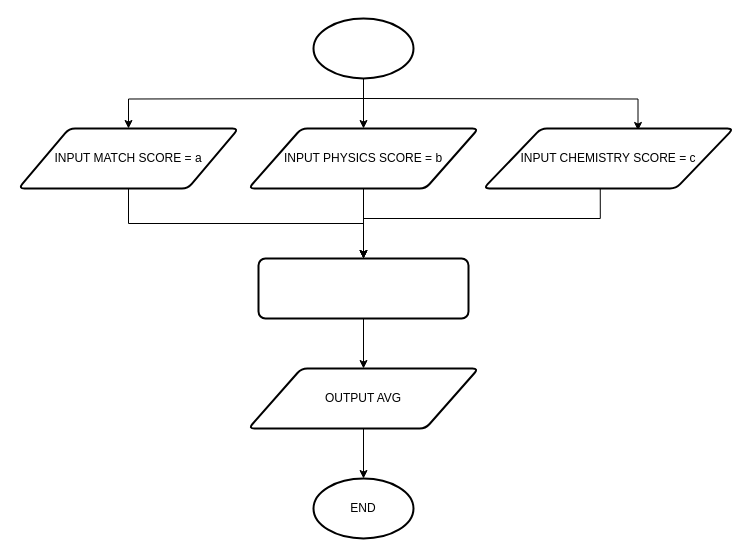
Image size: 751x556. Some labels were removed from this diagram. Here are the shapes that lost their labels. From the top down, the centre of each, then its label:
point 363,48: START
point 363,288: AVG = (a + b + c)/3
